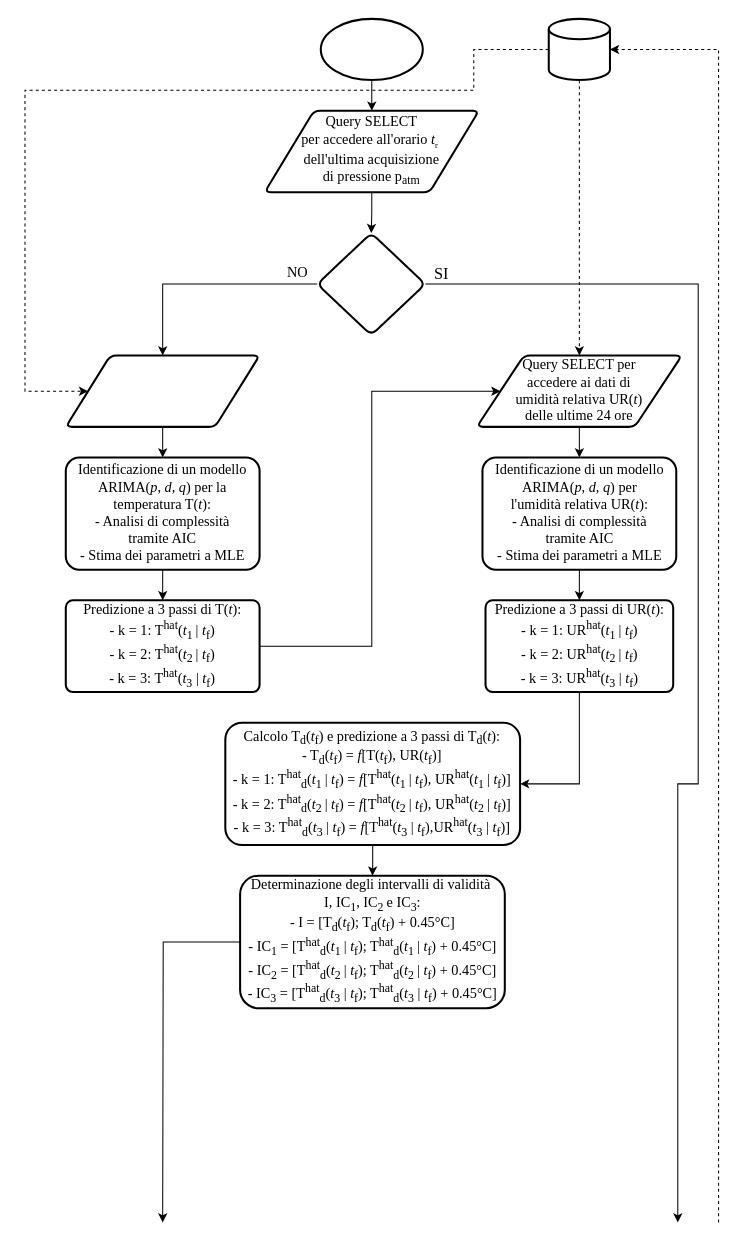
This 745x1248 diagram has some shape labels left out. Here are the shapes that lost their labels. From the top down, the centre of each, then its label:
point (371, 49): INIZIO
point (578, 49): DB
point (371, 284): t r = t f,OLD ?
point (162, 390): Query SELECT per accedere ai dati di temperatura T( t ) delle ultime 24 ore
